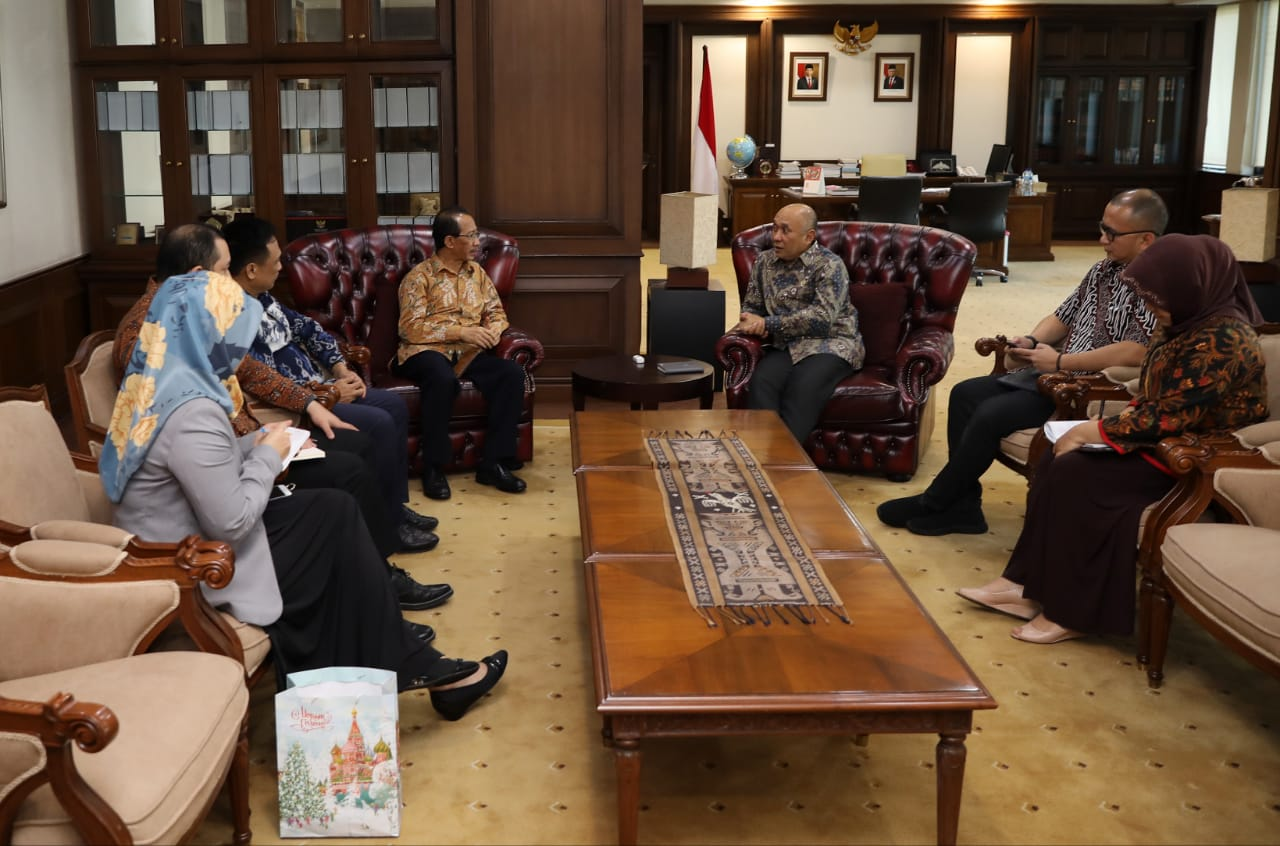meja: (563, 397, 985, 846)
